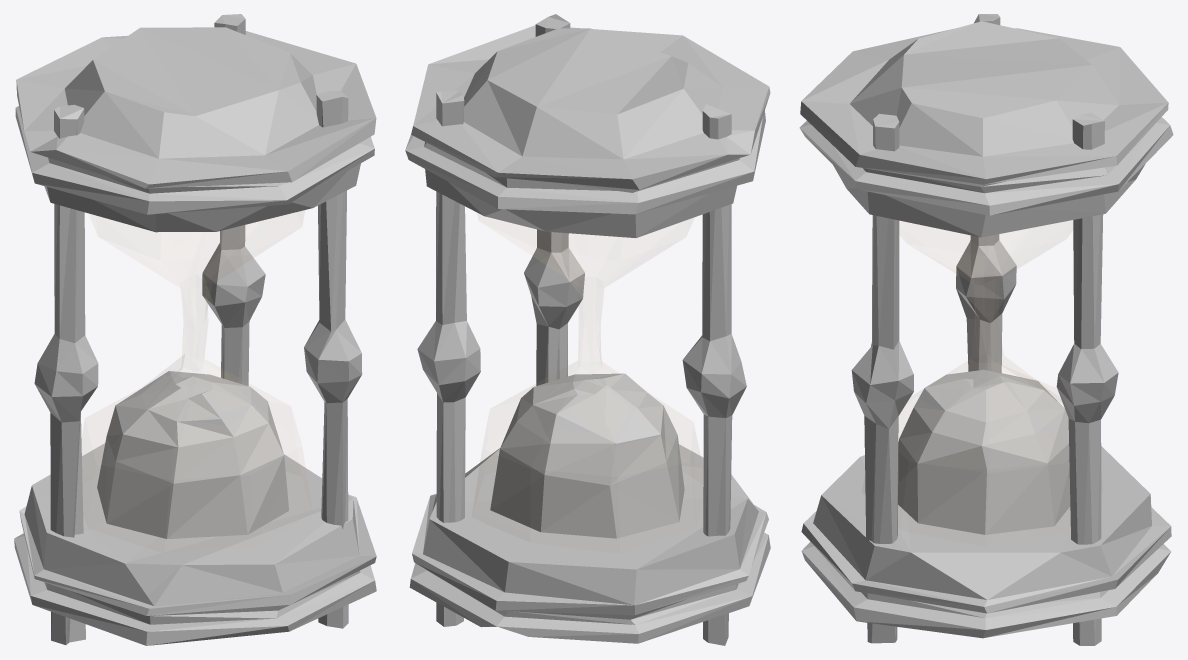
The model's file is SFI_Hourglass.fbx.
3 views of the same model, side by side, from view 1: azimuth 30°, elevation 25°; view 2: azimuth 150°, elevation 25°; view 3: azimuth 270°, elevation 25° (orthographic).
Parts seen in each view (by area): view 1: SFI_Hourglass; view 2: SFI_Hourglass; view 3: SFI_Hourglass.
Boxes of the visible parts, x1=… form: SFI_Hourglass: x1=14, y1=14, x2=376, y2=645; SFI_Hourglass: x1=405, y1=14, x2=770, y2=645; SFI_Hourglass: x1=799, y1=14, x2=1173, y2=645.
Bounding box in the file's own units: 23.85 × 37.76 × 23.85.
